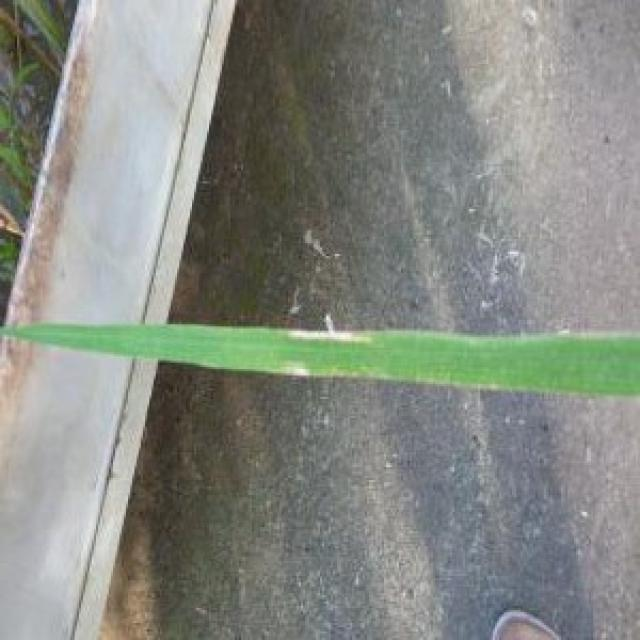Bacterial_Blight: (282, 322, 381, 352), (245, 363, 338, 380)
